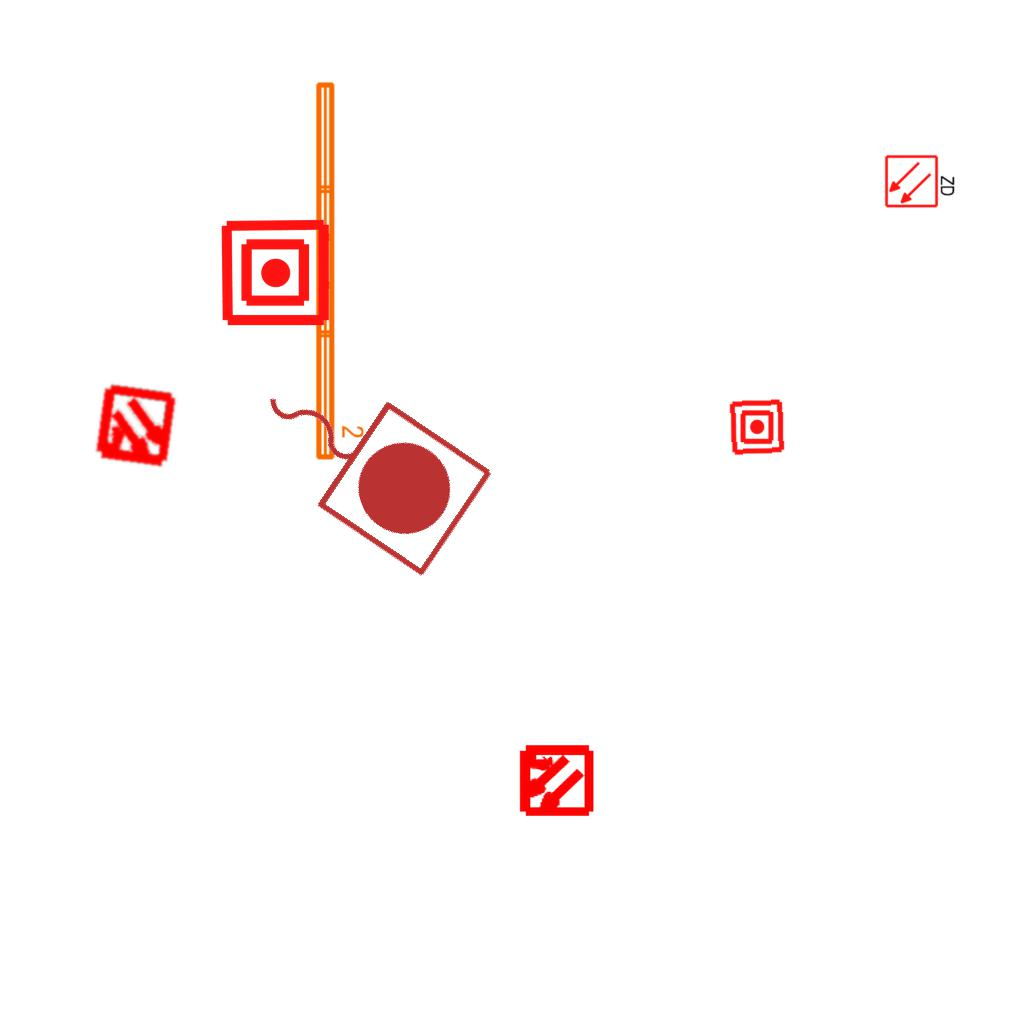Ambulanz_Pendelleuchte_LED: (310, 77, 366, 464)
NAM-Nichtautomatischer_Melder: (219, 216, 332, 329), (728, 398, 786, 456)
OT_Multisensormelder_(Kombination_RMO_WMD): (71, 363, 200, 492), (498, 724, 611, 837)
ZD_Melder_in_Zwischendecke_mit_Revisionsoeffnung_mind_40_x_40_cm: (884, 152, 958, 209)
Zugtaster: (222, 331, 506, 587)
